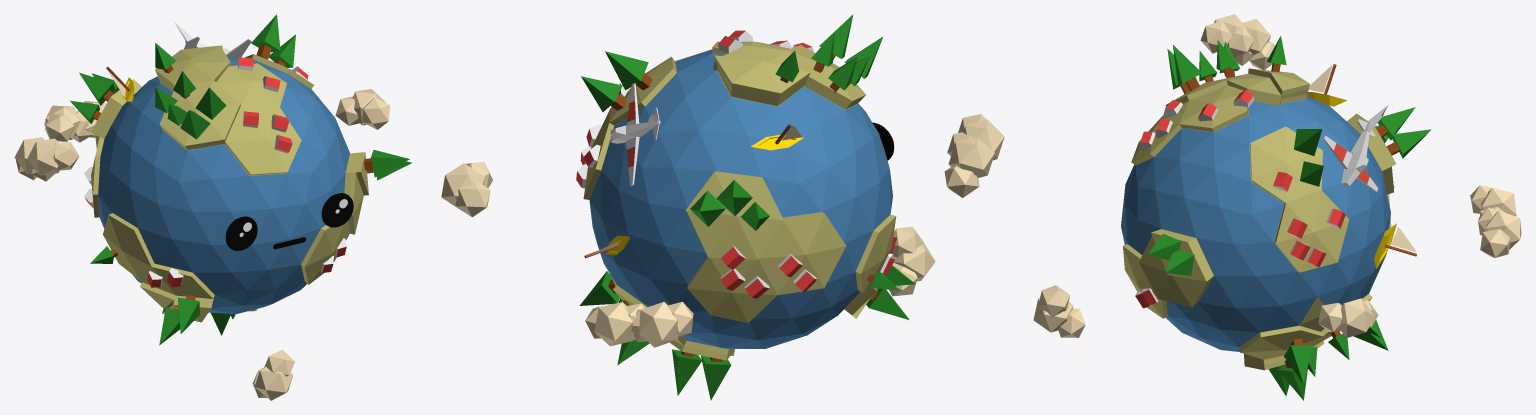
File: soso.glb
3 renders of one model, left to right at view 1: azimuth 30°, elevation 25°; view 2: azimuth 150°, elevation 25°; view 3: azimuth 270°, elevation 25°, orthographic. The views are drawn at different scales.
Visible parts, largest first — view 1: Icosphere, 005, Icosphere.001, Icosphere.008, Icosphere.006, Icosphere.003, Plane.013, Plane.016, Plane.027, Icosphere.007, Plane.005, Plane.003 (+7 smaller); view 2: Icosphere, Icosphere.007, Icosphere.003, Icosphere.001, Icosphere.006, Icosphere.002, Plane.003, Plane.013, Icosphere.008, Plane.014, Plane.022, Plane.020 (+8 smaller); view 3: Icosphere, Icosphere.006, Plane.003, Icosphere.001, Icosphere.002, Icosphere.007, Icosphere.008, Icosphere.003, Plane.002, Plane.020, Plane.049, Plane.011 (+7 smaller).
Boxes of the visible parts, bbox=[...] form: Icosphere: bbox=[91, 45, 368, 322]; 005: bbox=[225, 193, 353, 250]; Icosphere.001: bbox=[335, 89, 389, 129]; Icosphere.008: bbox=[27, 138, 79, 181]; Icosphere.006: bbox=[252, 349, 294, 400]; Icosphere.003: bbox=[44, 105, 92, 142]; Plane.013: bbox=[251, 14, 280, 59]; Plane.016: bbox=[364, 150, 409, 177]; Plane.027: bbox=[178, 295, 199, 333]; Icosphere.007: bbox=[14, 137, 58, 180]; Plane.005: bbox=[79, 72, 114, 105]; Plane.003: bbox=[173, 21, 251, 57]; Icosphere: bbox=[583, 41, 896, 360]; Icosphere.007: bbox=[944, 132, 994, 197]; Icosphere.003: bbox=[631, 301, 693, 347]; Icosphere.001: bbox=[441, 162, 492, 217]; Icosphere.006: bbox=[889, 226, 935, 296]; Icosphere.002: bbox=[585, 302, 644, 346]; Plane.003: bbox=[610, 83, 660, 185]; Plane.013: bbox=[605, 51, 652, 90]; Icosphere.008: bbox=[958, 114, 1004, 160]; Plane.014: bbox=[581, 76, 626, 111]; Plane.022: bbox=[672, 349, 702, 395]; Plane.020: bbox=[579, 271, 619, 305]; Icosphere: bbox=[1121, 68, 1396, 370]; Icosphere.006: bbox=[1033, 285, 1085, 337]; Plane.003: bbox=[1323, 105, 1387, 191]; Icosphere.001: bbox=[1318, 298, 1378, 337]; Icosphere.002: bbox=[1478, 207, 1521, 257]; Icosphere.007: bbox=[1227, 19, 1274, 69]; Icosphere.008: bbox=[1200, 14, 1253, 65]; Icosphere.003: bbox=[1470, 185, 1516, 216]; Plane.002: bbox=[1374, 223, 1416, 268]; Plane.020: bbox=[1284, 338, 1312, 384]; Plane.049: bbox=[1307, 64, 1347, 106]; Plane.011: bbox=[1173, 45, 1201, 91].
Bounding box in the file's own units: 3.83 × 2.76 × 3.75.
12 materials, 1 textured.
